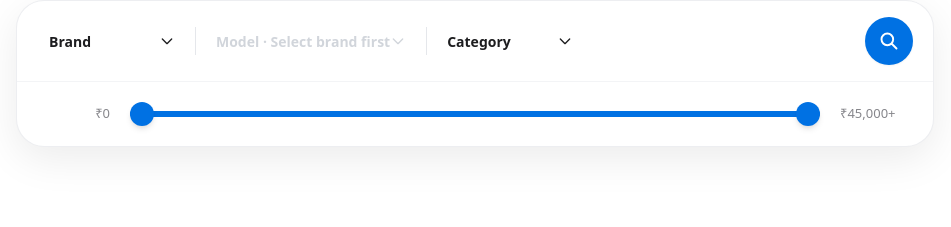
Test case: SearchBar › shows available categories
Click the button "Category": (510, 41) [435,22,585,60]
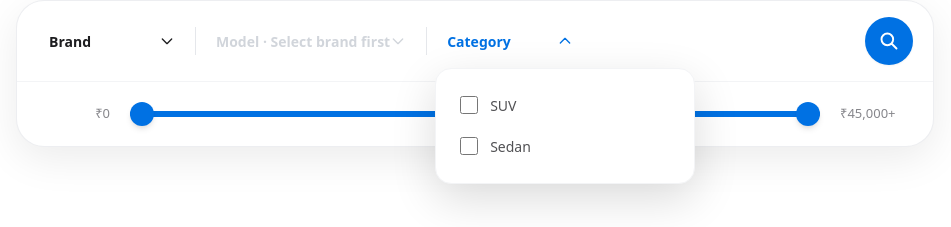
Now the text "SUV" is shown, box [490,94,516,116]
Now the text "Sedan" is shown, box [490,136,531,156]
